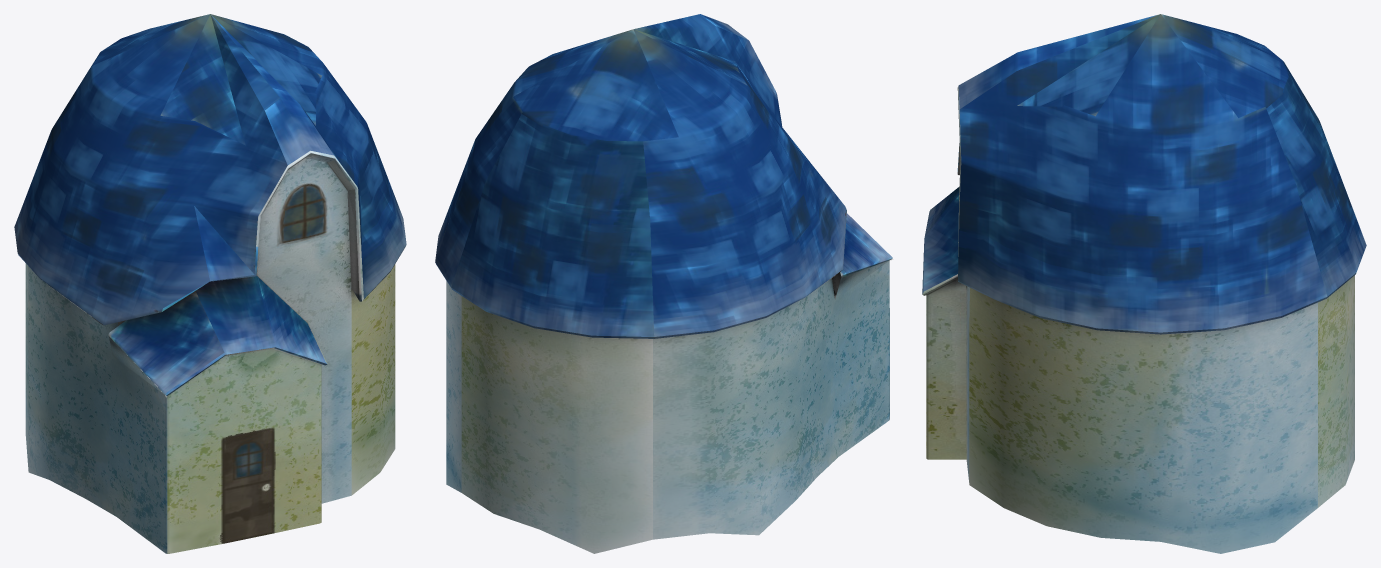
The model's file is maison_ronde.fbx.
3 renders of one model, left to right at view 1: azimuth 30°, elevation 25°; view 2: azimuth 150°, elevation 25°; view 3: azimuth 270°, elevation 25°, orthographic. The views are drawn at different scales.
Parts seen in each view (by area): view 1: pCylinder1; view 2: pCylinder1; view 3: pCylinder1.
Boxes of the visible parts, <box> form: pCylinder1: <box>14,14,406,553</box>; pCylinder1: <box>435,14,893,553</box>; pCylinder1: <box>922,14,1366,553</box>.
Size of the model in its own units: 12.23 by 15.13 by 13.19.
